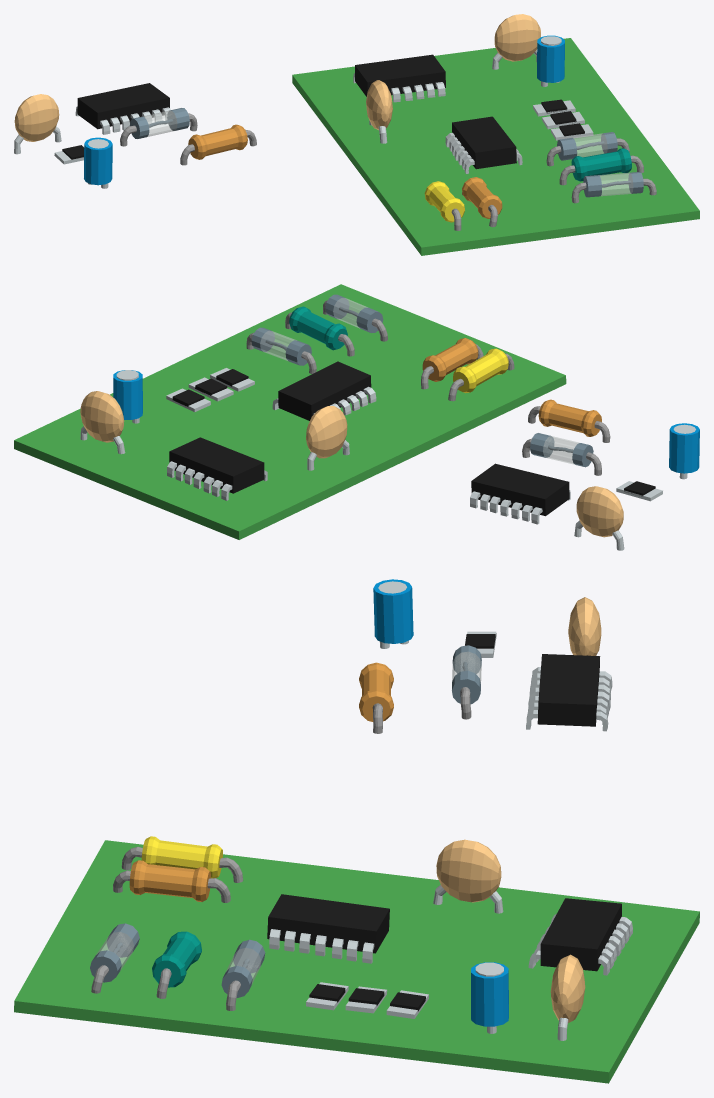
The model's file is circuit_parts_fl02.glb.
The picture shows the model from 3 angles, top to bottom: view 1: azimuth 30°, elevation 25°; view 2: azimuth 150°, elevation 25°; view 3: azimuth 270°, elevation 25°; orthographic projection. The views are drawn at different scales.
Visible parts, largest first — view 1: group1405673583, group1980916756, group1284116465, group1378734120, group807003520, group317112044, group203733342, group1839291768, group721609539, group1907504868, group1963054920, group1841080786 (+5 smaller); view 2: group1405673583, group1980916756, group1378734120, group1284116465, group317112044, group807003520, group1963054920, group1839291768, group203733342, group721609539, group121958341, group1841080786 (+9 smaller); view 3: group1405673583, group1378734120, group1980916756, group1284116465, group1963054920, group1841080786, group721609539, group121958341, group1907504868, group807003520, group203733342, group317112044 (+2 smaller).
Boxes of the visible parts, x1,y1,x2,y2 form: group1405673583: (292,38,699,255); group1980916756: (77,83,169,129); group1284116465: (355,54,445,96); group1378734120: (452,116,516,169); group807003520: (494,14,540,61); group317112044: (14,94,59,141); group203733342: (571,148,631,181); group1839291768: (188,124,247,159); group721609539: (84,137,112,185); group1907504868: (537,35,564,82); group1963054920: (366,80,392,130); group1841080786: (462,177,502,218); group1405673583: (14,284,566,539); group1980916756: (471,463,569,516); group1378734120: (278,361,371,420); group1284116465: (169,437,264,493); group317112044: (576,486,623,537); group807003520: (80,391,124,442); group1963054920: (306,406,347,458); group1839291768: (538,399,601,436); group203733342: (289,306,347,350); group721609539: (669,423,699,473); group121958341: (453,348,508,393); group1841080786: (422,338,478,381); group1405673583: (14,840,699,1083); group1378734120: (267,894,389,953); group1980916756: (537,654,600,726); group1284116465: (540,898,621,971); group1963054920: (436,839,501,902); group1841080786: (129,860,210,901); group721609539: (373,579,413,643); group121958341: (141,836,222,878); group1907504868: (471,962,508,1026); group807003520: (550,954,585,1022); group203733342: (152,931,201,987); group317112044: (568,597,601,655).
Bounding box in the file's own units: 1.83 × 0.3004 × 1.41.
